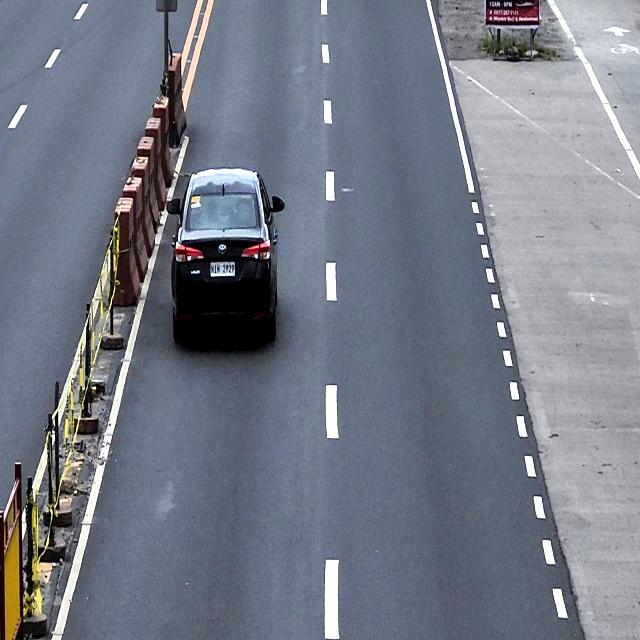Car: (166, 167, 284, 343)
License-Plate: (209, 258, 236, 278)
